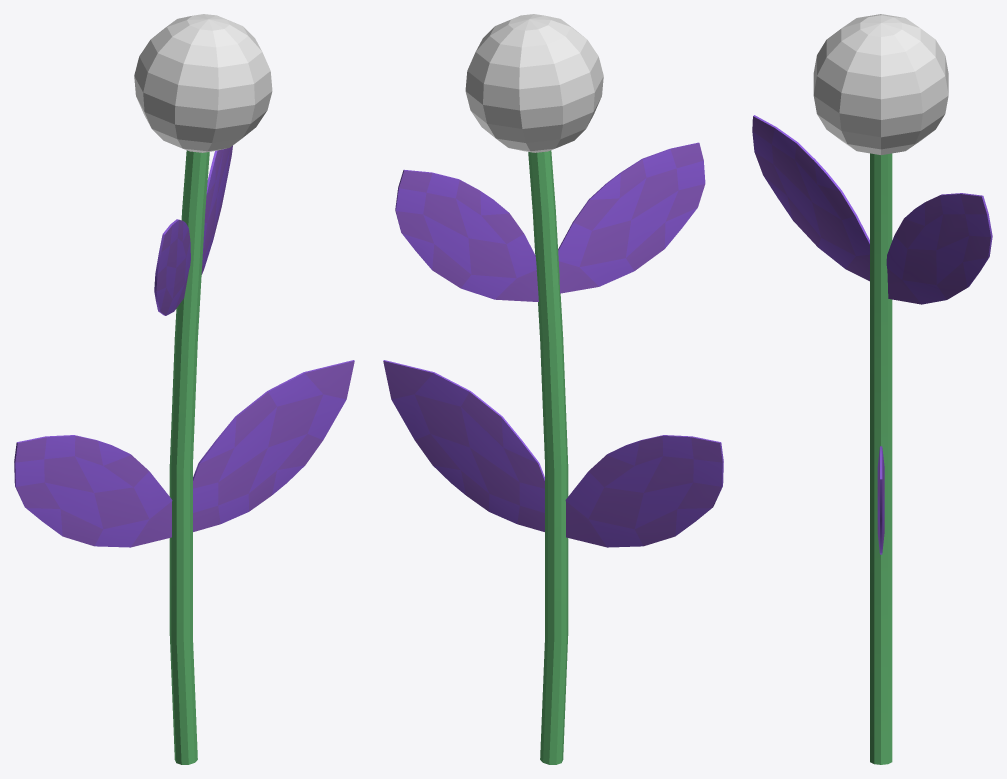
File: SneezingHerb.fbx
3 views of the same model, side by side, from view 1: azimuth 30°, elevation 25°; view 2: azimuth 150°, elevation 25°; view 3: azimuth 270°, elevation 25° (orthographic).
Visible parts, largest first — view 1: SneezingHerb; view 2: SneezingHerb; view 3: SneezingHerb.
Part boxes in pixels (x1,y1,x2,y2): SneezingHerb: (14, 14, 354, 764); SneezingHerb: (383, 14, 723, 764); SneezingHerb: (752, 14, 992, 764).
Size of the model in its own units: 16.87 by 34.95 by 10.16.
